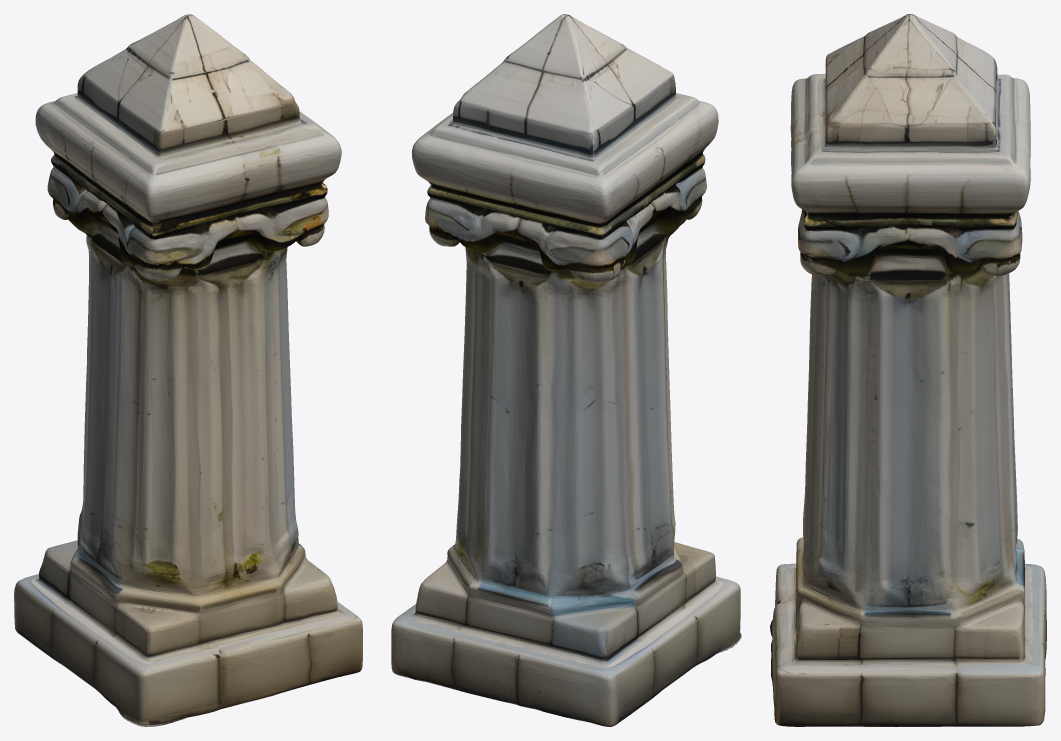
Rendered from courtyard-boundary-short-pillar-optimized.glb.
3 views of the same model, side by side, from view 1: azimuth 30°, elevation 25°; view 2: azimuth 150°, elevation 25°; view 3: azimuth 270°, elevation 25° (orthographic). The views are drawn at different scales.
Parts seen in each view (by area): view 1: 1414cb48-27ce-4733-b0ae-abac4016f80e_texturing.obj; view 2: 1414cb48-27ce-4733-b0ae-abac4016f80e_texturing.obj; view 3: 1414cb48-27ce-4733-b0ae-abac4016f80e_texturing.obj.
Boxes of the visible parts, x1,y1,x2,y2 form: 1414cb48-27ce-4733-b0ae-abac4016f80e_texturing.obj: (14, 14, 362, 726); 1414cb48-27ce-4733-b0ae-abac4016f80e_texturing.obj: (391, 14, 741, 726); 1414cb48-27ce-4733-b0ae-abac4016f80e_texturing.obj: (770, 14, 1046, 726).
Bounding box in the file's own units: 0.6761 × 1.8 × 0.6855.
Materials: 1 (1 with a texture image).
